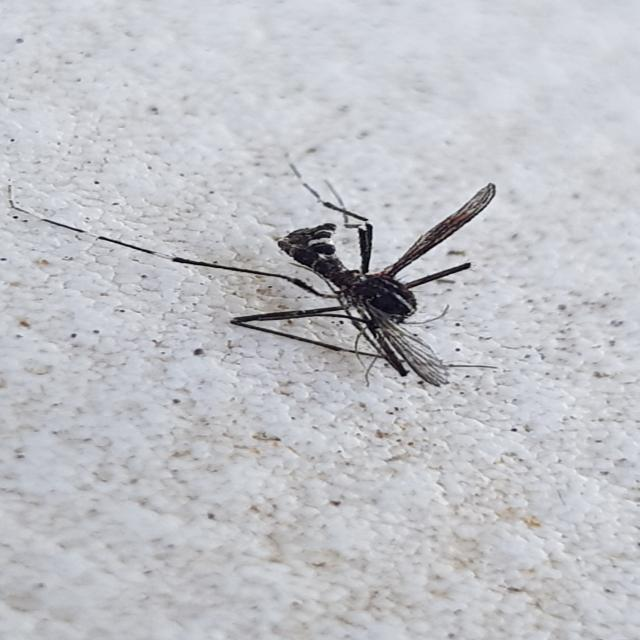albopictus: (85, 145, 530, 406)
